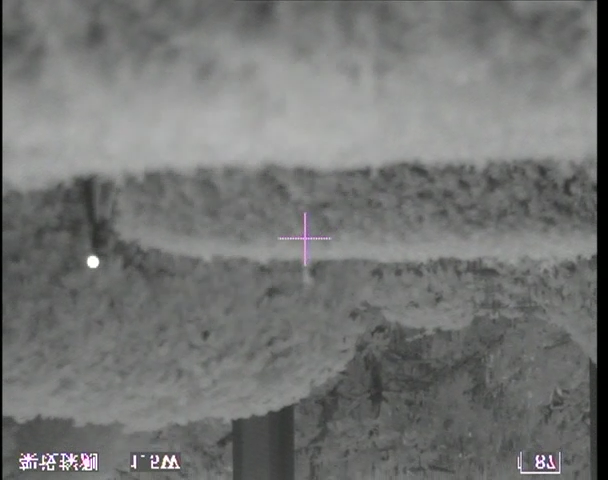my: (85, 255, 100, 270)
